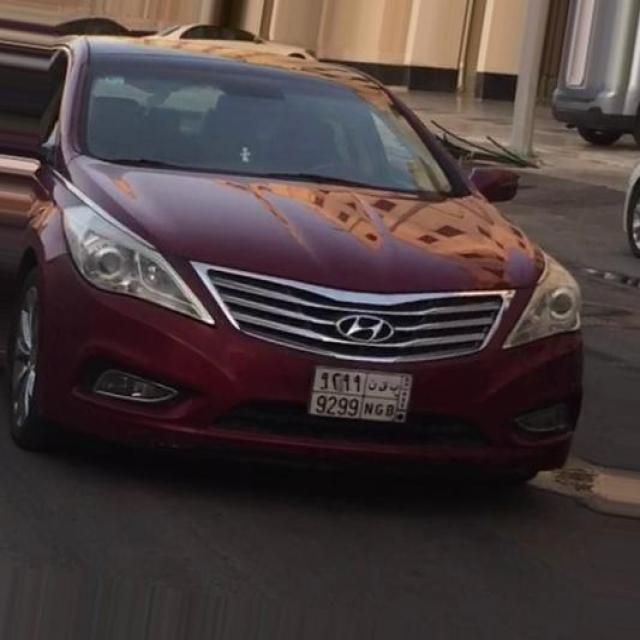Car-plate: (295, 349, 427, 434)
